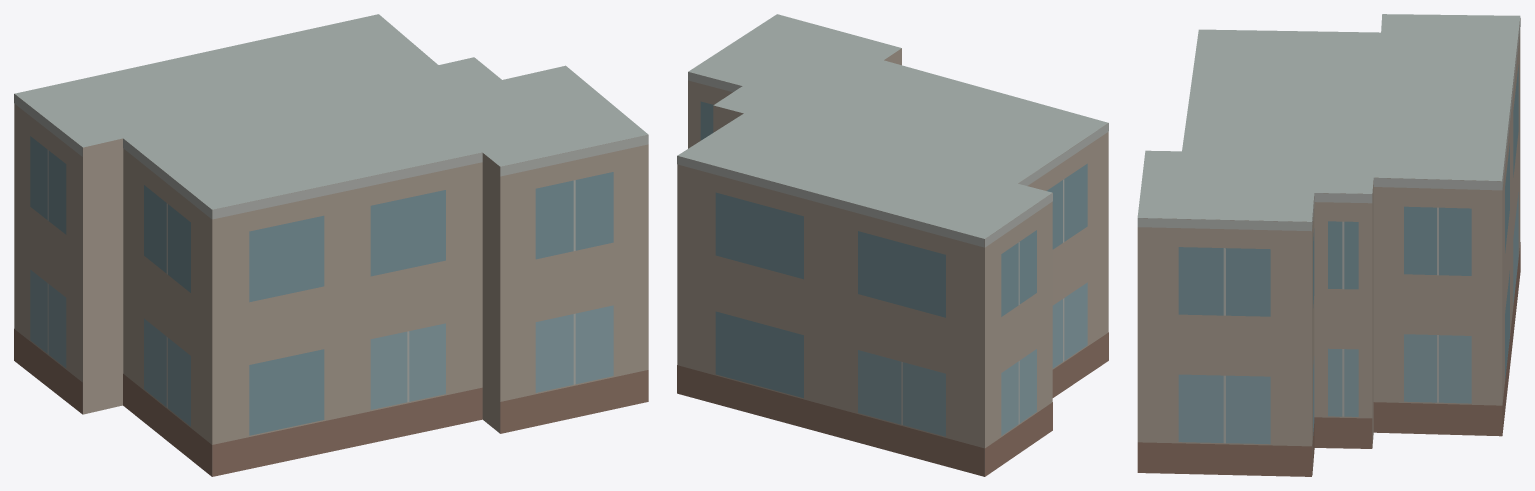
File: survey-upis-33005679.glb
The picture shows the model from 3 angles, left to right: view 1: azimuth 30°, elevation 25°; view 2: azimuth 150°, elevation 25°; view 3: azimuth 270°, elevation 25°; orthographic projection. The views are drawn at different scales.
Parts seen in each view (by area): view 1: survey-upis-33005679.tmp; view 2: survey-upis-33005679.tmp; view 3: survey-upis-33005679.tmp.
Boxes of the visible parts, x1,y1,x2,y2 form: survey-upis-33005679.tmp: (14,14,648,476); survey-upis-33005679.tmp: (677,14,1108,476); survey-upis-33005679.tmp: (1137,14,1520,476).
Bounding box in the file's own units: 11.73 × 6.7 × 9.13.
